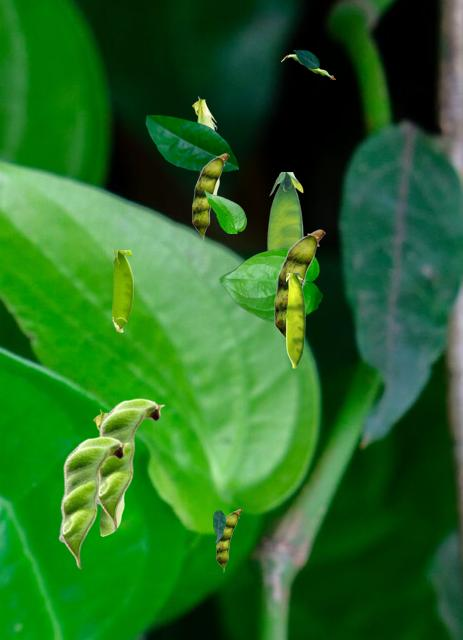pea: (58, 436, 128, 568), (97, 398, 164, 530), (274, 229, 324, 339), (93, 409, 123, 535), (192, 153, 228, 240), (267, 172, 303, 249), (192, 96, 218, 194), (286, 273, 304, 367), (112, 250, 132, 331), (216, 509, 241, 571), (281, 54, 334, 78)
